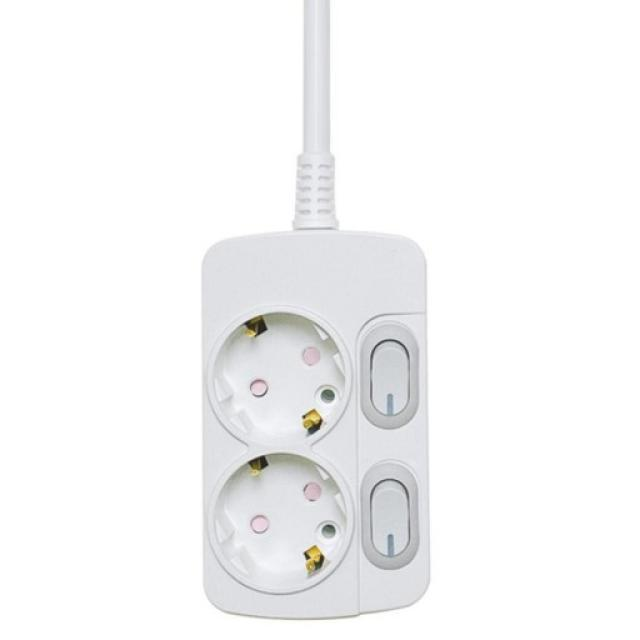typeb: (129, 190, 500, 640)
